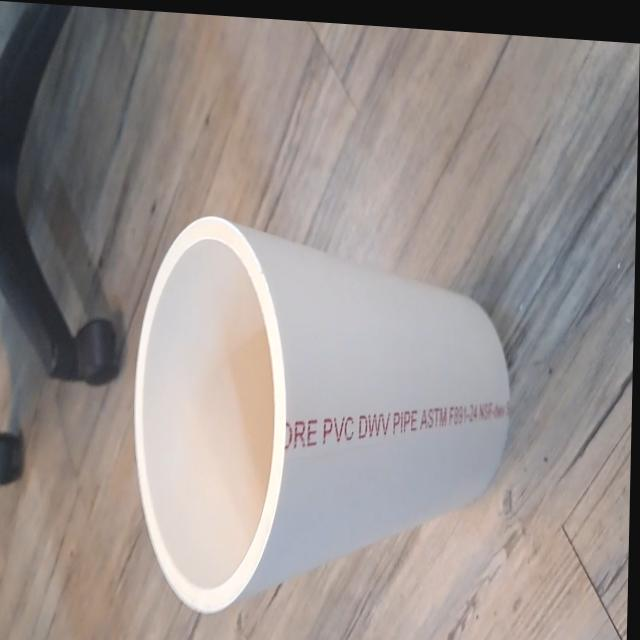CORAL: (114, 161, 524, 639)
